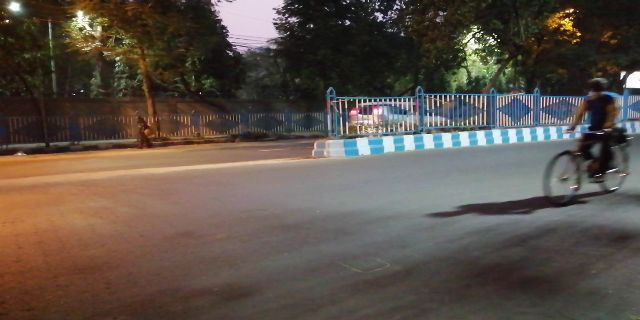Cycle: (541, 79, 635, 207)
